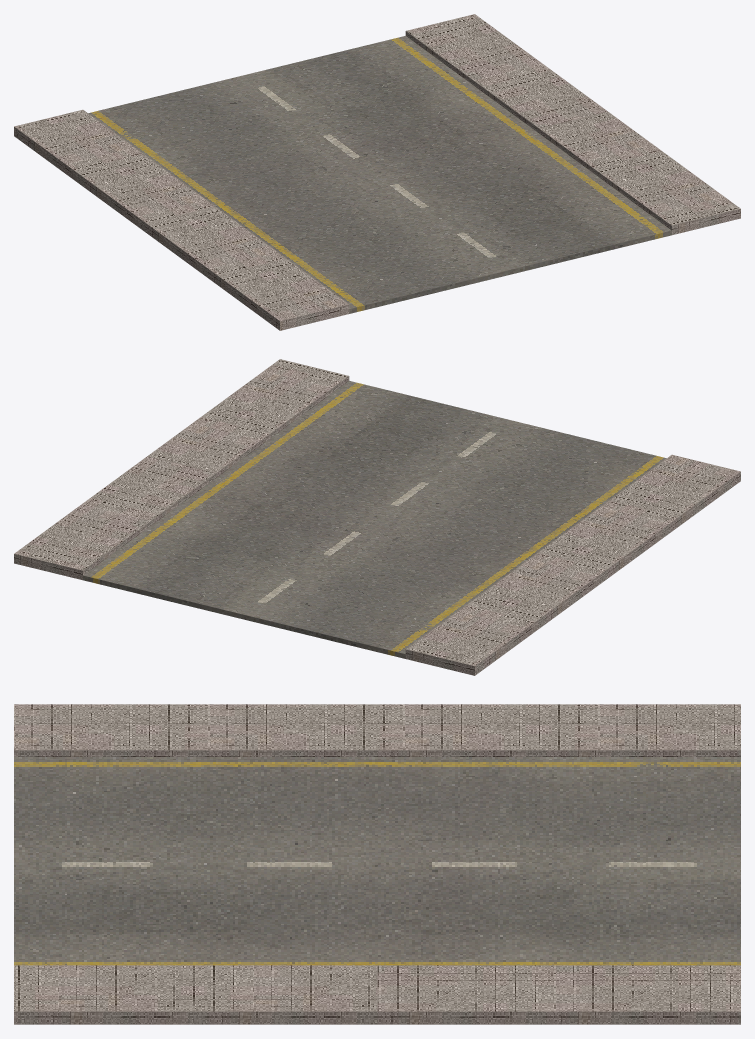
Rendered from road_1_straight.glb.
3 views of the same model, one above another, from view 1: azimuth 30°, elevation 25°; view 2: azimuth 150°, elevation 25°; view 3: azimuth 270°, elevation 25° (orthographic). The views are drawn at different scales.
Visible parts, largest first — view 1: road_1_straight; view 2: road_1_straight; view 3: road_1_straight.
Boxes of the visible parts, x1=… form: road_1_straight: x1=14, y1=14, x2=740, y2=330; road_1_straight: x1=14, y1=359, x2=740, y2=675; road_1_straight: x1=14, y1=704, x2=740, y2=1024.
Bounding box in the file's own units: 16 × 0.32 × 16.
Materials: 2 (2 with a texture image).
